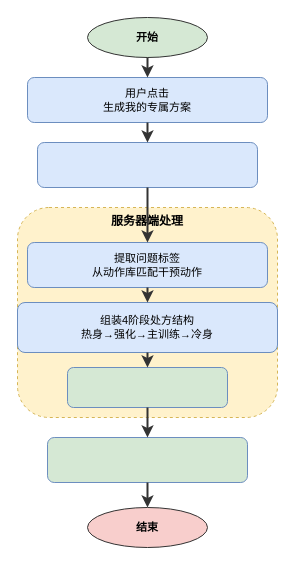
Some shapes in this 295 by 565 pixel diagram are drawn without their labels. The box of each missing label's shape, as (x1, y1, x2, y2) in pixels:
前端向服务器请求 AI处方生成: (36, 142, 258, 188)
生成3套备选方案: (66, 366, 228, 408)
返回方案列表 供用户选择: (46, 436, 248, 482)
